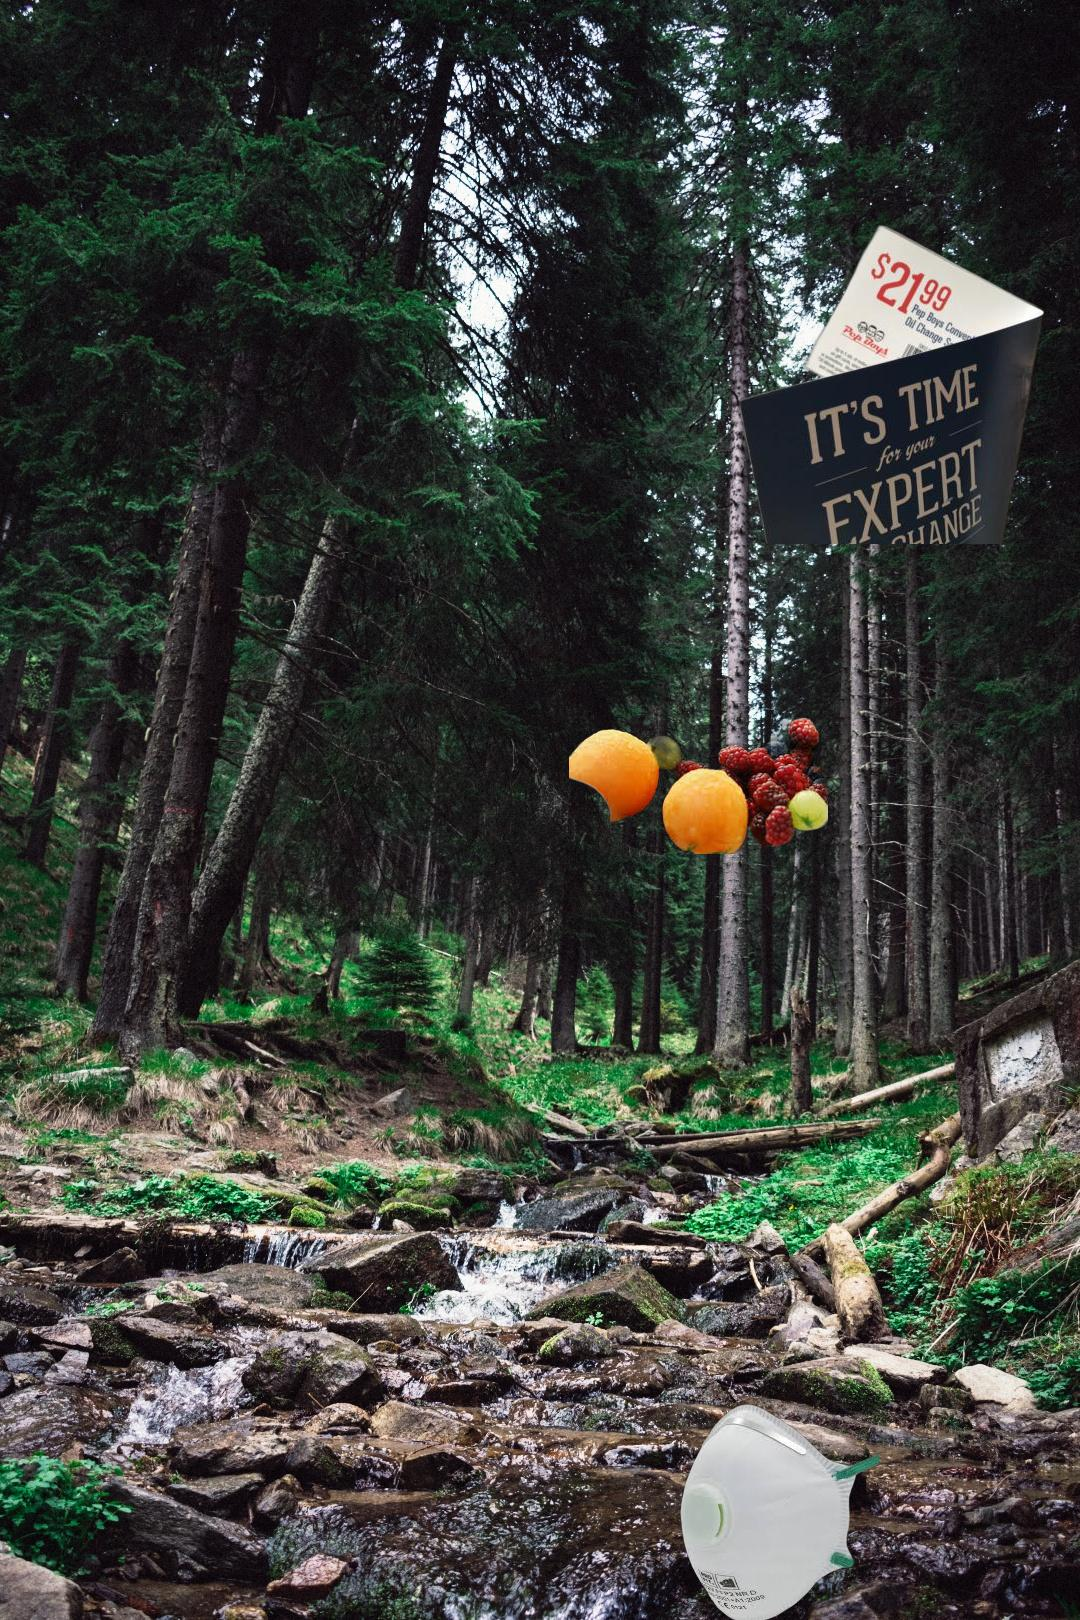biological: (569, 673, 828, 855)
paper: (735, 221, 1049, 544)
trash: (677, 1401, 879, 1620)
